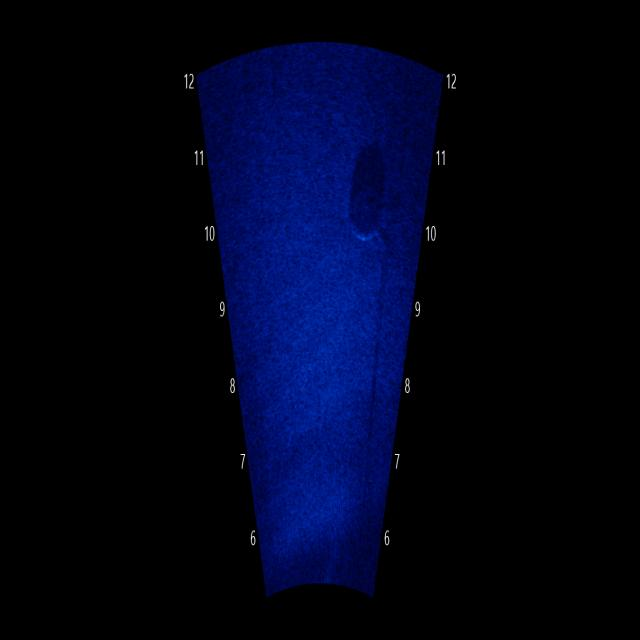circle: (324, 144, 404, 273)
